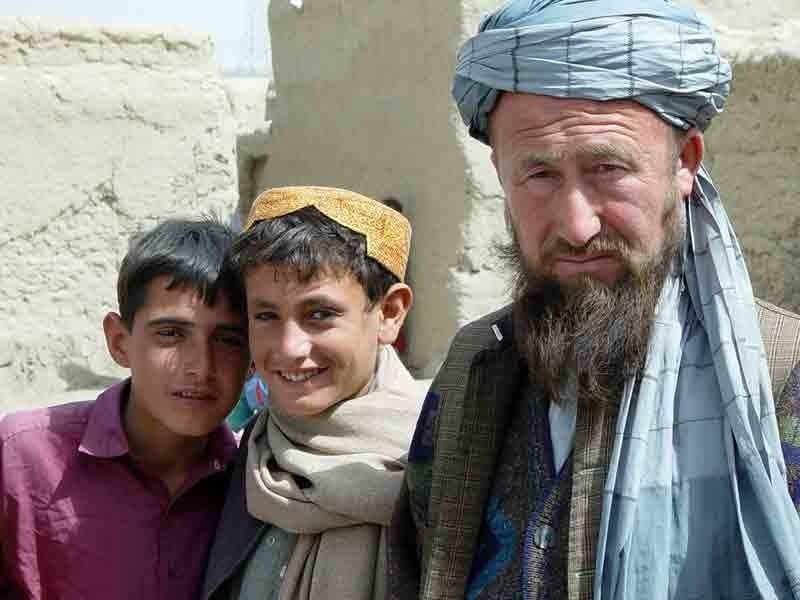face_no_mask: (487, 36, 697, 314), (103, 218, 247, 438), (242, 211, 389, 412)
